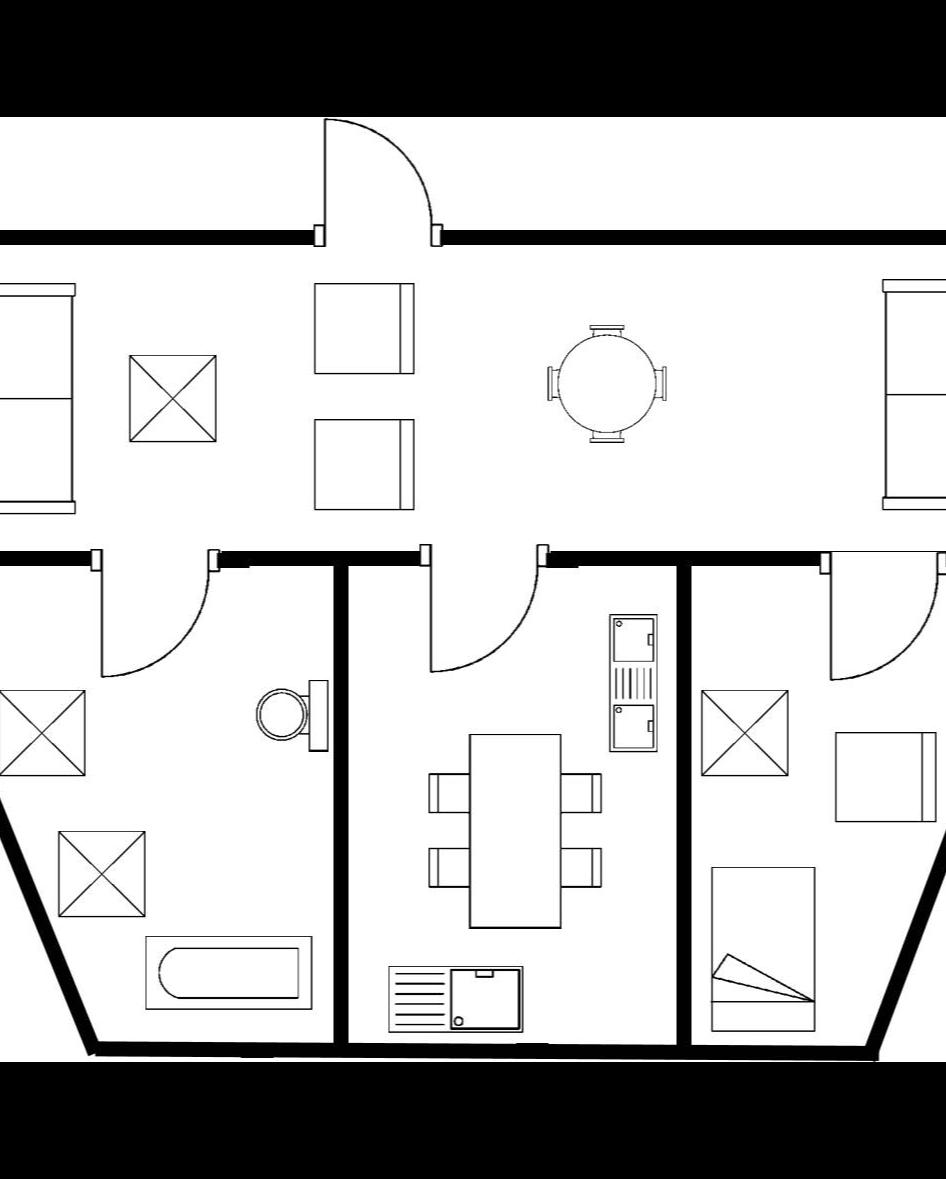sink: (600, 608, 664, 765)
